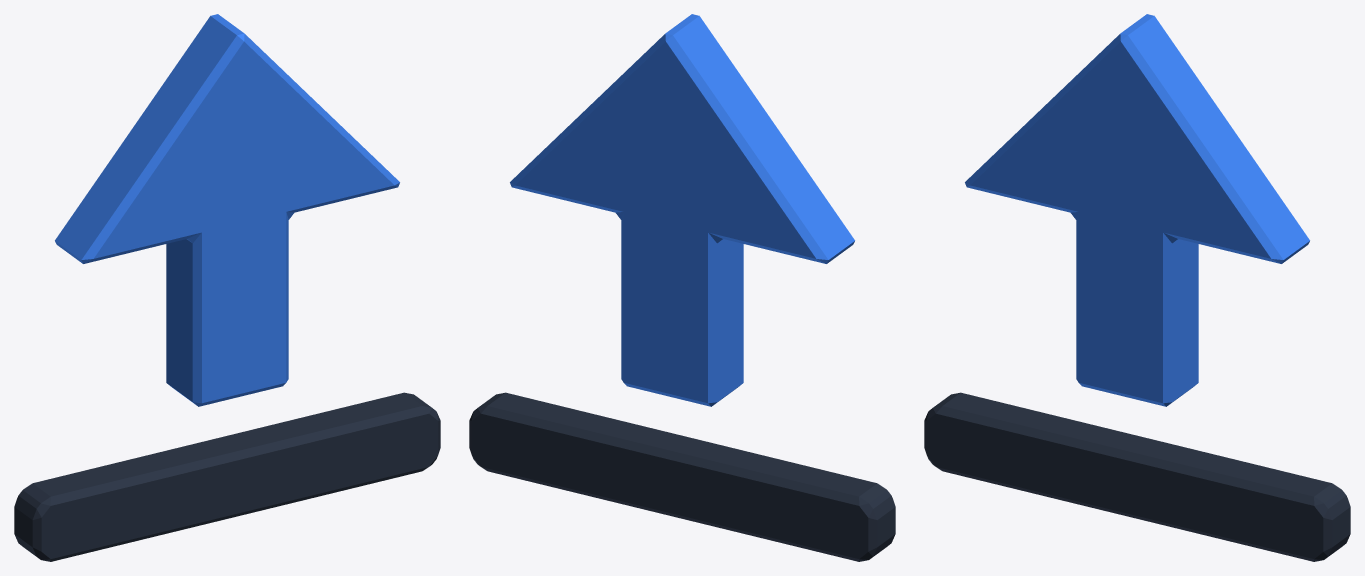
File: symbol-deployment.glb
3 renders of one model, left to right at view 1: azimuth 30°, elevation 25°; view 2: azimuth 150°, elevation 25°; view 3: azimuth 330°, elevation 25°, orthographic.
Parts seen in each view (by area): view 1: symbol-deployment_CoreMaterial, symbol-deployment_SystemMaterial; view 2: symbol-deployment_CoreMaterial, symbol-deployment_SystemMaterial; view 3: symbol-deployment_CoreMaterial, symbol-deployment_SystemMaterial.
Part boxes in pixels (x1=…): symbol-deployment_CoreMaterial: x1=55, y1=14, x2=399, y2=406; symbol-deployment_SystemMaterial: x1=14, y1=392, x2=440, y2=561; symbol-deployment_CoreMaterial: x1=510, y1=14, x2=854, y2=406; symbol-deployment_SystemMaterial: x1=469, y1=392, x2=895, y2=561; symbol-deployment_CoreMaterial: x1=965, y1=14, x2=1309, y2=406; symbol-deployment_SystemMaterial: x1=924, y1=392, x2=1350, y2=561.
Size of the model in its own units: 0.85 by 0.966 by 0.12.
